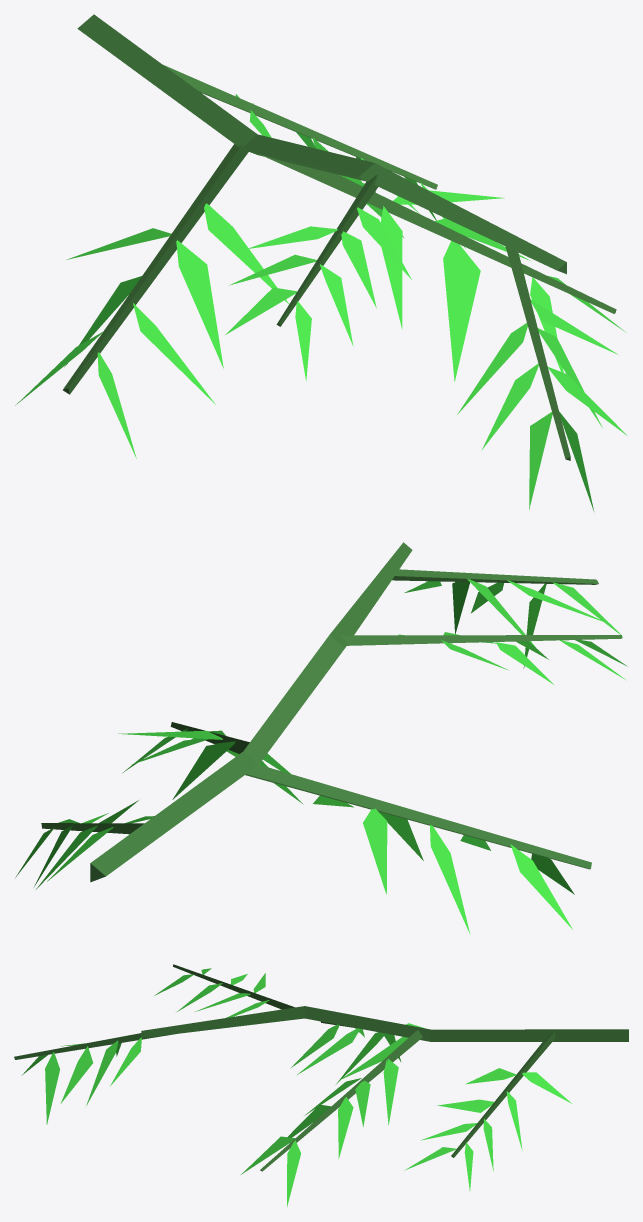
The model's file is BambooBranch1.fbx.
3 renders of one model, top to bottom at view 1: azimuth 30°, elevation 25°; view 2: azimuth 150°, elevation 25°; view 3: azimuth 270°, elevation 25°, orthographic. The views are drawn at different scales.
Visible parts, largest first — view 1: Branch1; view 2: Branch1; view 3: Branch1.
Boxes of the visible parts, x1=… form: Branch1: x1=15, y1=14, x2=627, y2=511; Branch1: x1=15, y1=542, x2=627, y2=934; Branch1: x1=14, y1=964, x2=628, y2=1206.
Size of the model in its own units: 34.42 by 13.59 by 55.31.
